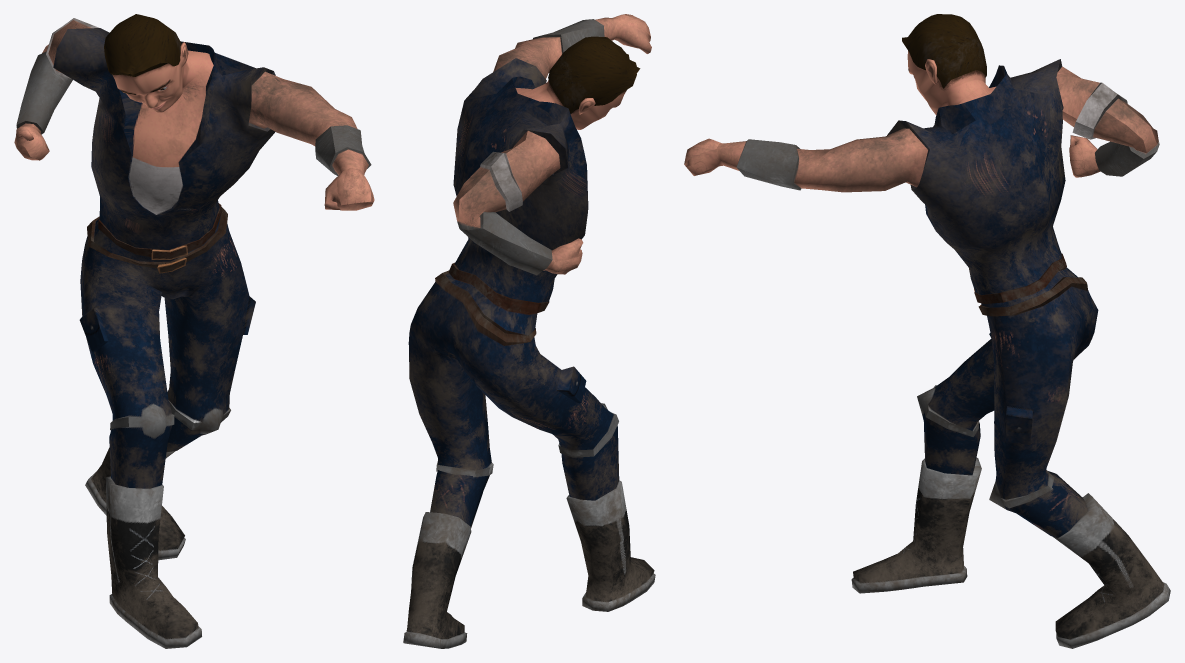
The model's file is Anim_ataque_d2_jugador.0035.obj.
The picture shows the model from 3 angles, left to right: view 1: azimuth 30°, elevation 25°; view 2: azimuth 150°, elevation 25°; view 3: azimuth 270°, elevation 25°; orthographic projection. The views are drawn at different scales.
Visible parts, largest first — view 1: polySurface1; view 2: polySurface1; view 3: polySurface1.
Boxes of the visible parts, left/top/right/bottom form: polySurface1: left=14, top=14, right=374, bottom=648; polySurface1: left=403, top=14, right=655, bottom=648; polySurface1: left=684, top=14, right=1170, bottom=648.
Bounding box in the file's own units: 3.05 × 8.72 × 6.58.
